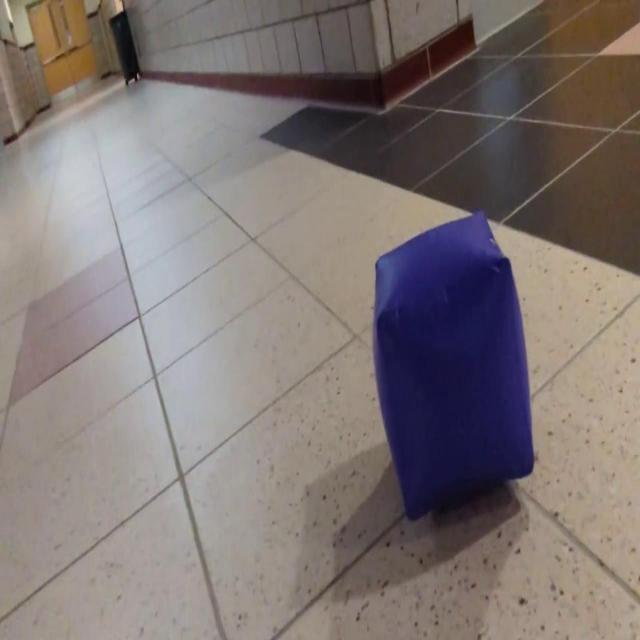frc_cube: (372, 217, 540, 517)
